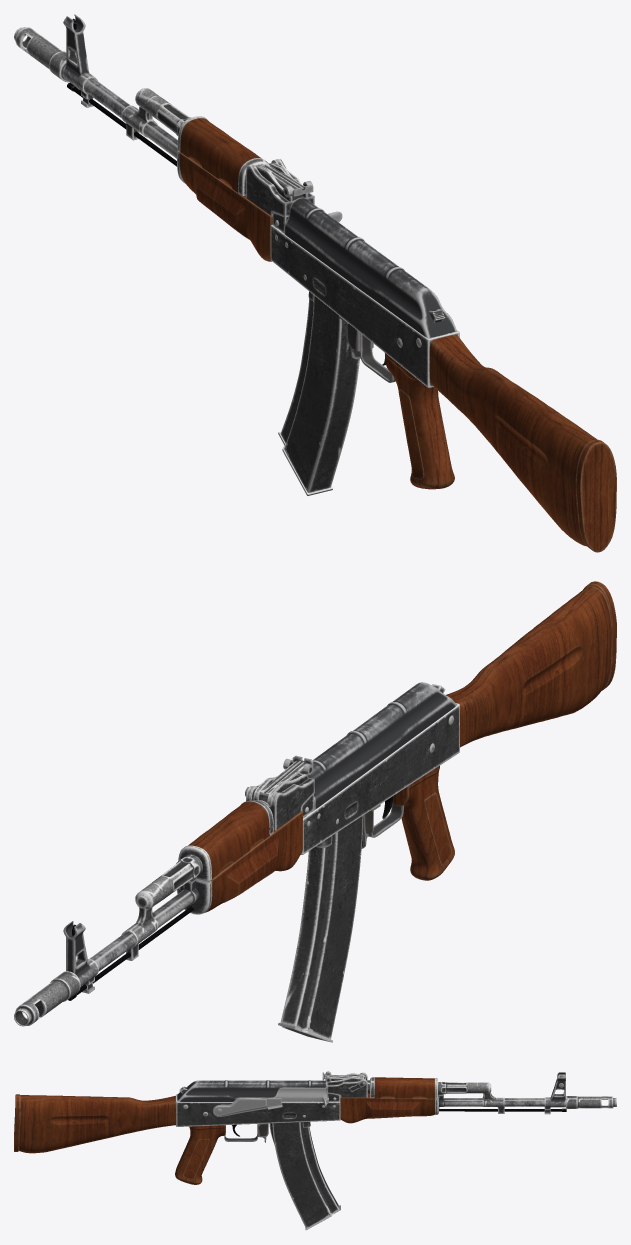
3 renders of one model, top to bottom at view 1: azimuth 30°, elevation 25°; view 2: azimuth 150°, elevation 25°; view 3: azimuth 270°, elevation 25°, orthographic. The views are drawn at different scales.
Parts seen in each view (by area): view 1: hd-ak47-mesh; view 2: hd-ak47-mesh; view 3: hd-ak47-mesh.
Boxes of the visible parts, x1=… form: hd-ak47-mesh: x1=14, y1=14, x2=616, y2=552; hd-ak47-mesh: x1=14, y1=581, x2=616, y2=1042; hd-ak47-mesh: x1=14, y1=1071, x2=616, y2=1230.
Size of the model in its own units: 0.0625 by 0.2817 by 1.
1 material, 1 textured.
